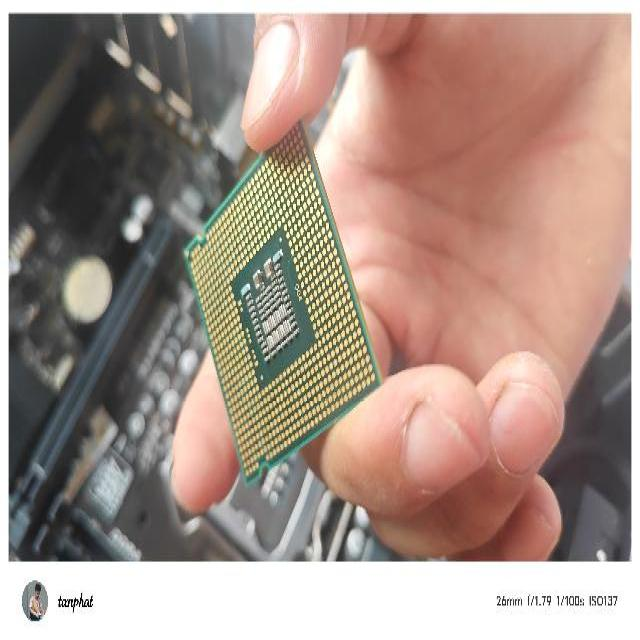CPU: (176, 110, 384, 488)
